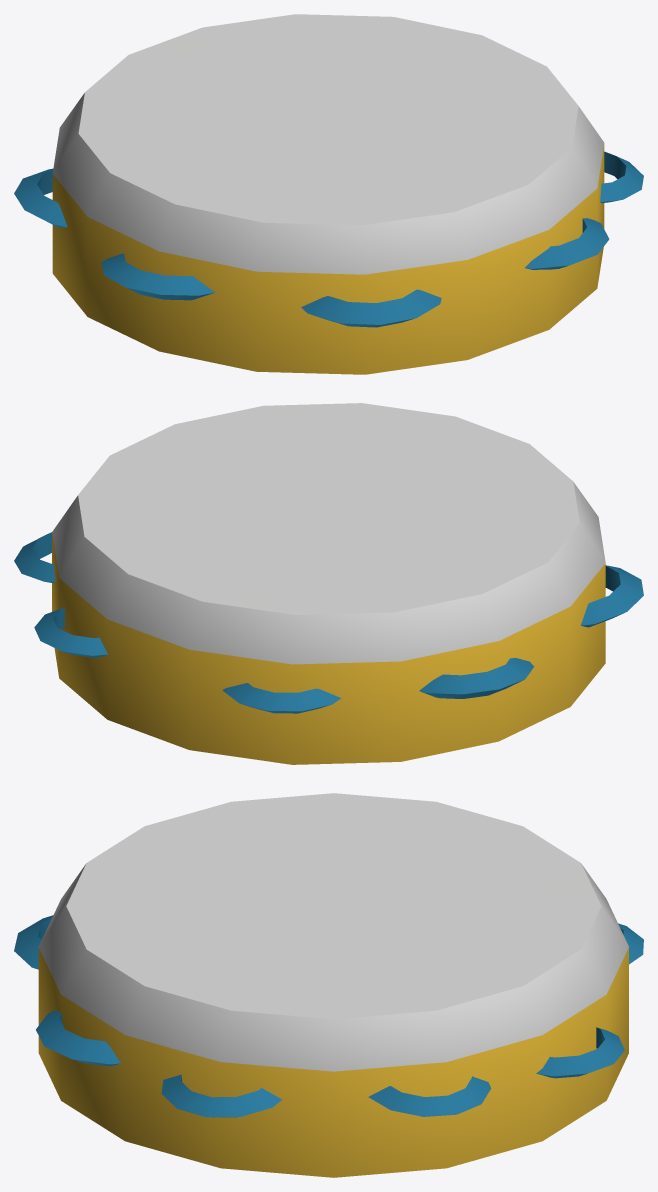
Rendered from pandeiro_brasileiro.glb.
3 views of the same model, one above another, from view 1: azimuth 30°, elevation 25°; view 2: azimuth 150°, elevation 25°; view 3: azimuth 270°, elevation 25° (orthographic). The views are drawn at different scales.
Parts seen in each view (by area): view 1: PandeiroBrasileiro; view 2: PandeiroBrasileiro; view 3: PandeiroBrasileiro.
Part boxes in pixels (x1,y1,x2,y2): PandeiroBrasileiro: (14,14,643,374); PandeiroBrasileiro: (14,403,643,764); PandeiroBrasileiro: (14,793,643,1177).
Bounding box in the file's own units: 0.2568 × 0.0649 × 0.2523.
2 materials, 2 textured.
